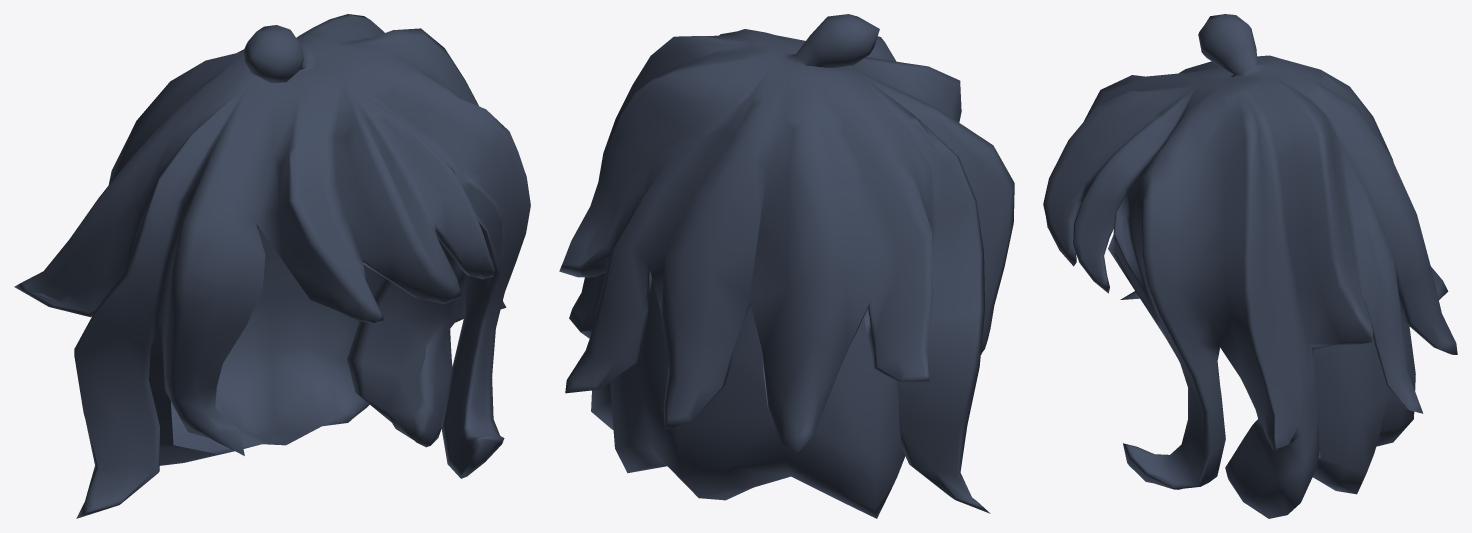
Rendered from playerHair.fbx.
3 renders of one model, left to right at view 1: azimuth 30°, elevation 25°; view 2: azimuth 150°, elevation 25°; view 3: azimuth 270°, elevation 25°, orthographic. The views are drawn at different scales.
Parts seen in each view (by area): view 1: pCube52; view 2: pCube52; view 3: pCube52.
Boxes of the visible parts, x1,y1,x2,y2 form: pCube52: (14,14,530,518); pCube52: (559,14,1014,518); pCube52: (1043,14,1457,518).
Size of the model in its own units: 6.33 by 6.55 by 5.87.
